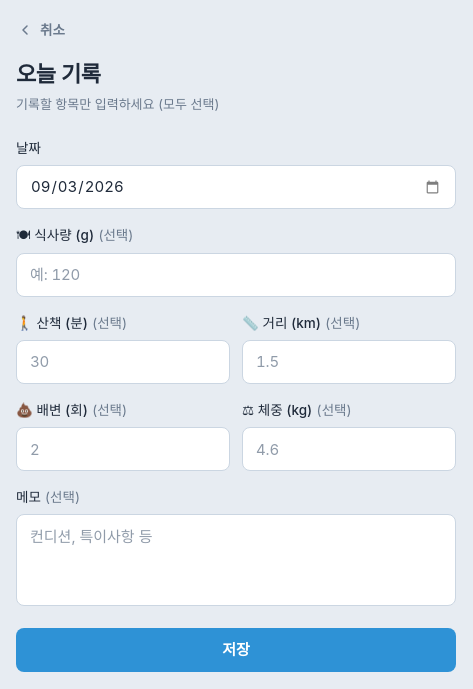
Test case: RecordForm — 신규 › 저장 중에는 버튼을 잠근다
Click the button "저장" at {"x": 236, "y": 650}, box top-left (16, 628), bottom-right (456, 672)
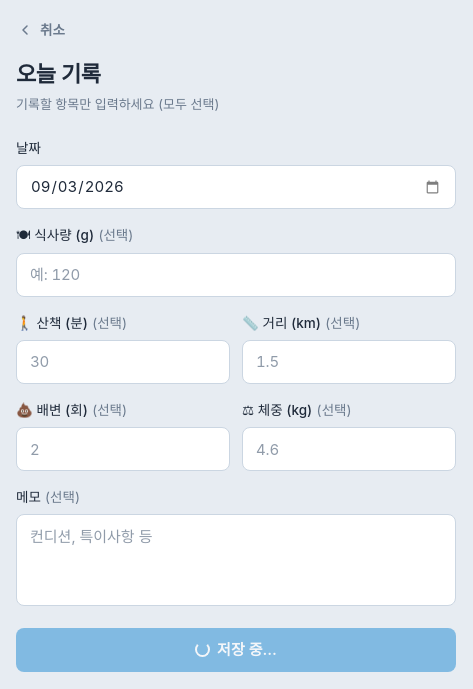
Check: the button "저장 중…" is disabled, box top-left (16, 628), bottom-right (456, 672)
